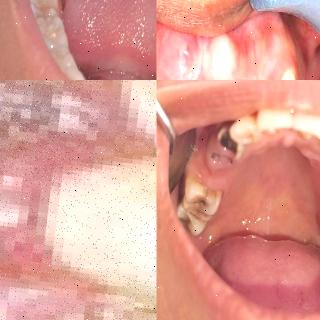Gum Swelling: (0, 80, 58, 247)
cavities: (219, 128, 243, 160), (193, 191, 213, 218)
stains: (244, 129, 262, 147), (266, 126, 284, 140), (294, 127, 309, 143)
